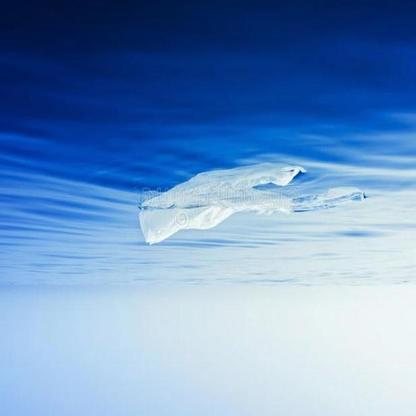plastic bag: (138, 162, 368, 245)
